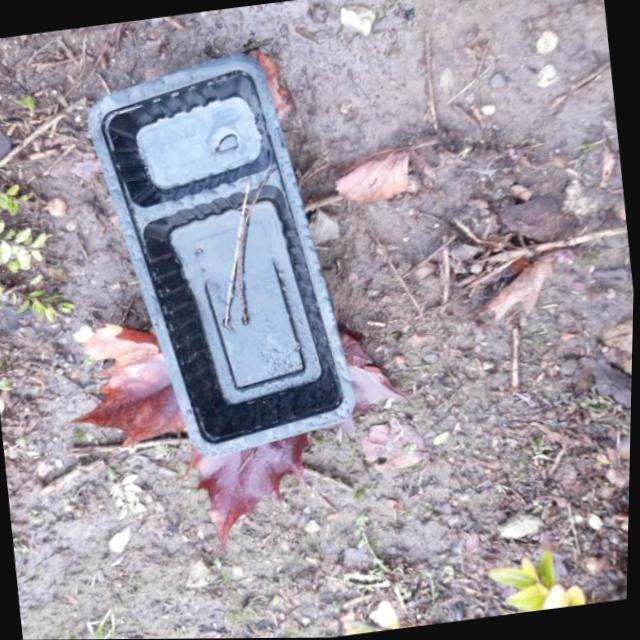Plastic: (73, 38, 370, 470)
